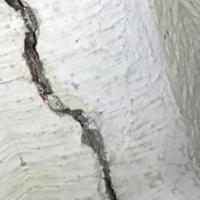crack: (3, 4, 131, 199)
